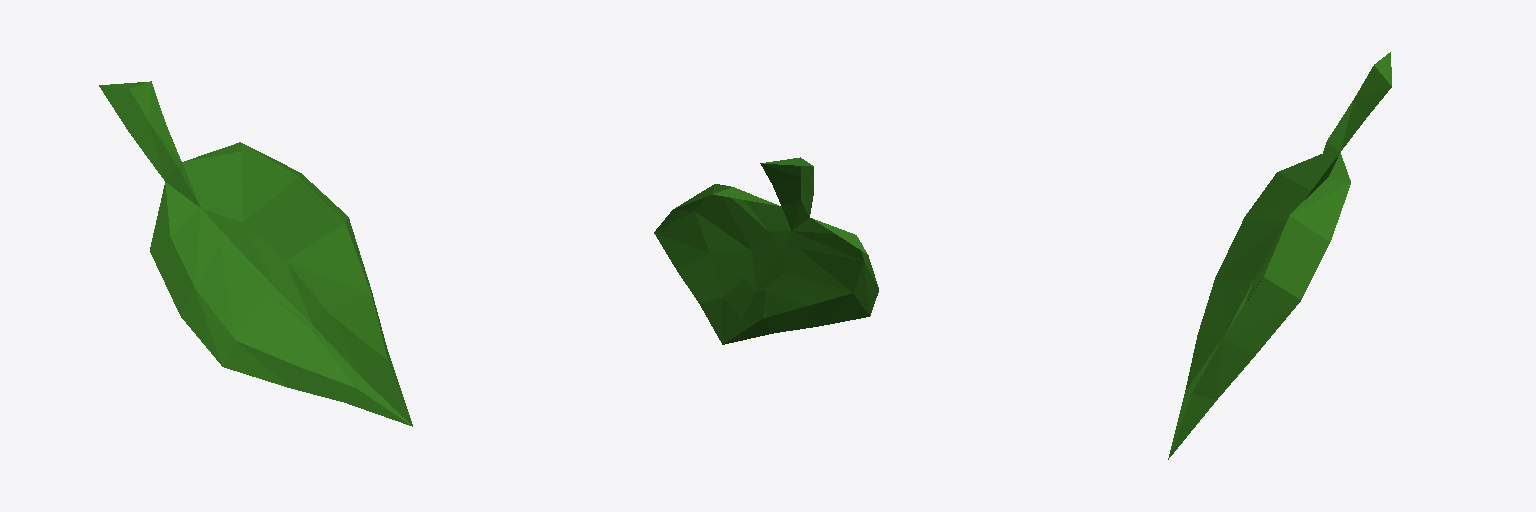
The model's file is vegetExpand.obj.
3 views of the same model, side by side, from view 1: azimuth 30°, elevation 25°; view 2: azimuth 150°, elevation 25°; view 3: azimuth 270°, elevation 25° (orthographic).
Size of the model in its own units: 0.5508 by 0.7878 by 0.5168.